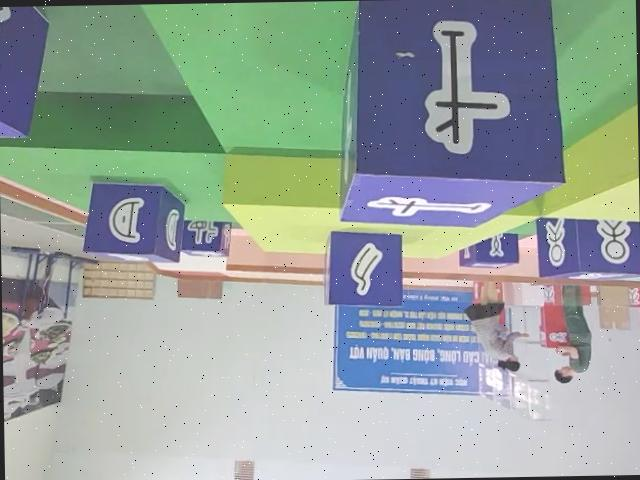R2 Real Blue: (334, 0, 568, 231), (80, 176, 185, 262), (533, 214, 639, 280), (0, 4, 50, 134), (320, 225, 401, 305), (458, 232, 520, 268), (179, 217, 231, 255)
